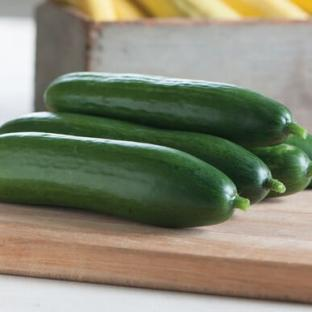Cucumber: (0, 113, 284, 203), (0, 133, 249, 227), (45, 73, 306, 147), (251, 145, 311, 196), (286, 134, 311, 160)
